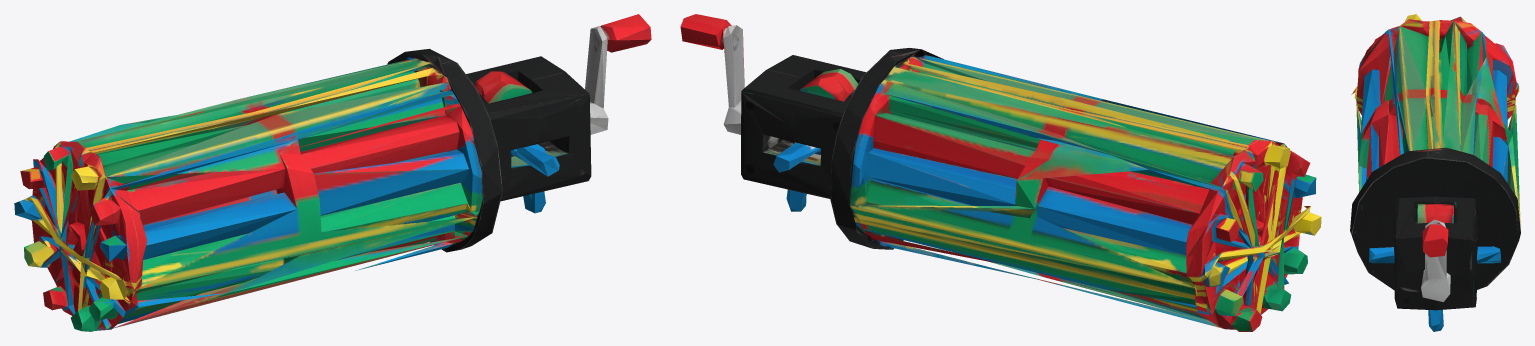
File: meshy.glb
The picture shows the model from 3 angles, left to right: view 1: azimuth 30°, elevation 25°; view 2: azimuth 150°, elevation 25°; view 3: azimuth 270°, elevation 25°; orthographic projection. The views are drawn at different scales.
Visible parts, largest first — view 1: Mesh_0; view 2: Mesh_0; view 3: Mesh_0.
Boxes of the visible parts, x1,y1,x2,y2 form: Mesh_0: [14, 14, 651, 331]; Mesh_0: [680, 14, 1321, 331]; Mesh_0: [1350, 14, 1520, 331].
Size of the model in its own units: 1.9 by 0.5745 by 0.607.
1 material, 1 textured.
